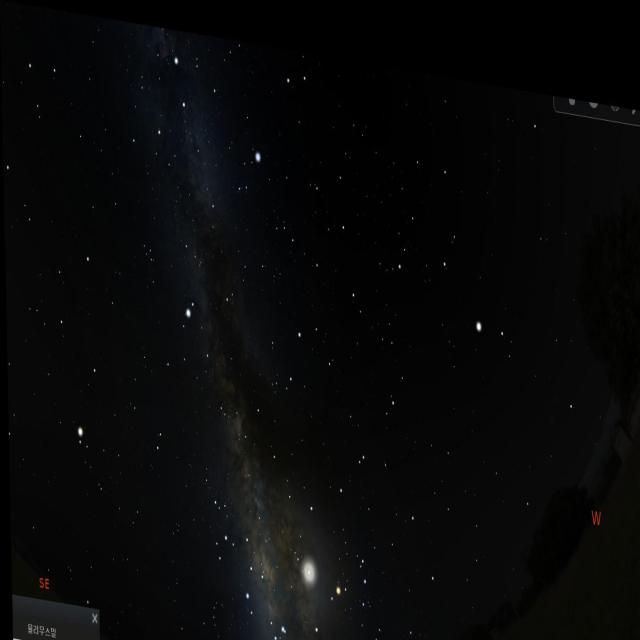aquila: (144, 248, 242, 411)
bootes: (398, 124, 511, 357)
cygnus: (148, 35, 225, 236)
lyra: (237, 136, 265, 201)
moon: (275, 503, 332, 610)
sagittarius: (191, 467, 250, 588)
scorpius: (261, 521, 375, 640)
